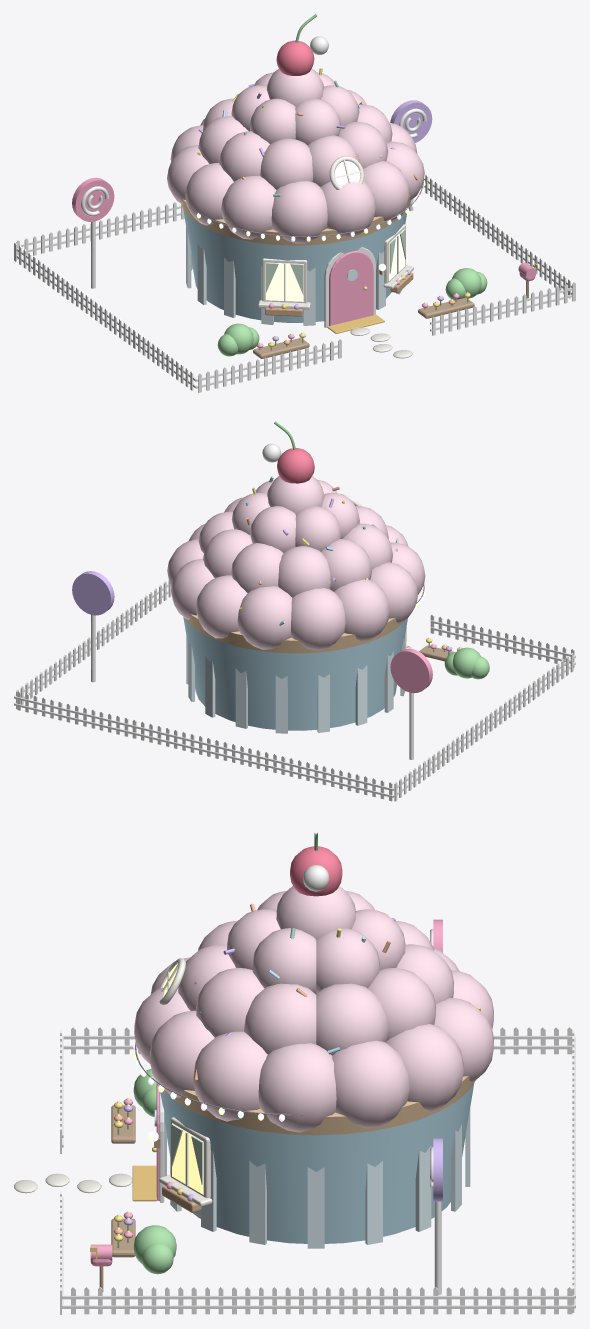
The model's file is building_sweets_L09.glb.
The picture shows the model from 3 angles, top to bottom: view 1: azimuth 30°, elevation 25°; view 2: azimuth 150°, elevation 25°; view 3: azimuth 270°, elevation 25°; orthographic projection. The views are drawn at different scales.
Parts seen in each view (by area): view 1: Body, sweets_L9; view 2: Body, sweets_L9; view 3: Body, sweets_L9.
Part boxes in pixels (box(x1,y1,x2,y2)): Body: box(72, 14, 432, 333); sweets_L9: box(14, 36, 575, 392); Body: box(72, 421, 432, 759); sweets_L9: box(14, 443, 575, 801); Body: box(132, 833, 493, 1294); sweets_L9: box(14, 865, 575, 1314).
Size of the model in its own units: 25.35 by 16.85 by 23.04.
